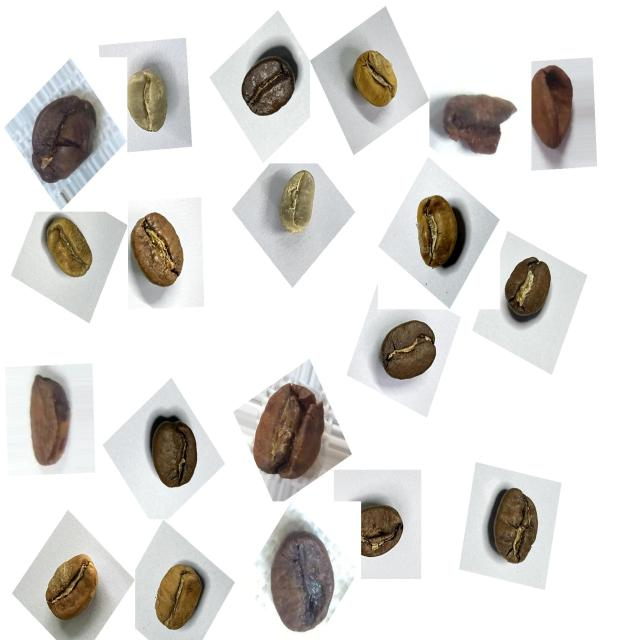bad: (240, 370, 335, 491), (256, 519, 344, 638), (22, 82, 106, 192), (12, 369, 82, 478), (520, 54, 590, 160), (435, 81, 519, 168)
dark: (229, 41, 303, 130)
green: (115, 57, 181, 147), (267, 162, 326, 248)
light: (34, 542, 108, 634), (144, 552, 212, 638), (341, 39, 408, 121), (34, 211, 102, 291)
medium: (120, 204, 202, 304), (476, 478, 553, 580), (370, 309, 447, 395), (138, 412, 210, 503), (402, 188, 472, 280), (493, 247, 564, 332), (350, 496, 414, 573)
